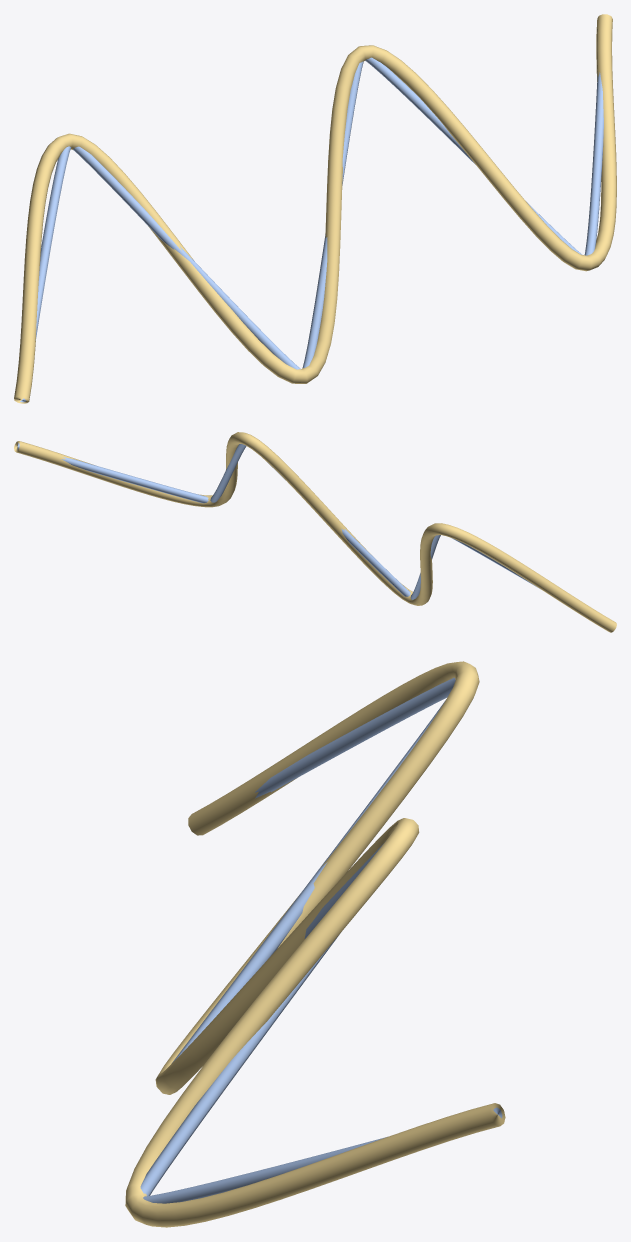
Rendered from example.gltf.
3 views of the same model, one above another, from view 1: azimuth 30°, elevation 25°; view 2: azimuth 150°, elevation 25°; view 3: azimuth 270°, elevation 25° (orthographic). The views are drawn at different scales.
Visible parts, largest first — view 1: tcb, tension_0_8; view 2: tcb, tension_0_8; view 3: tcb, tension_0_8.
Boxes of the visible parts, box(x1,y1,x2,y2) form: tcb: box(14, 14, 616, 403); tension_0_8: box(20, 57, 603, 402); tcb: box(14, 432, 616, 632); tension_0_8: box(17, 443, 540, 599); tcb: box(125, 661, 505, 1227); tension_0_8: box(140, 678, 502, 1203).
Bounding box in the file's own units: 4.07 × 1.38 × 1.27.
